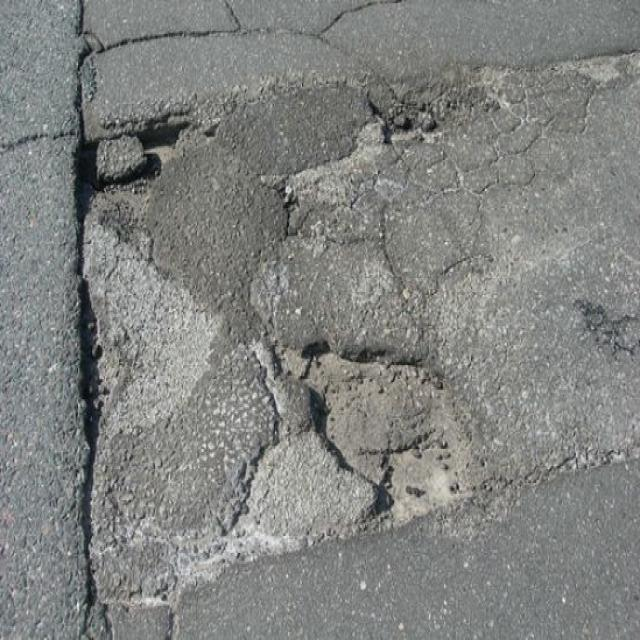Pothole: (288, 334, 490, 530), (70, 217, 229, 437), (67, 104, 209, 220)
